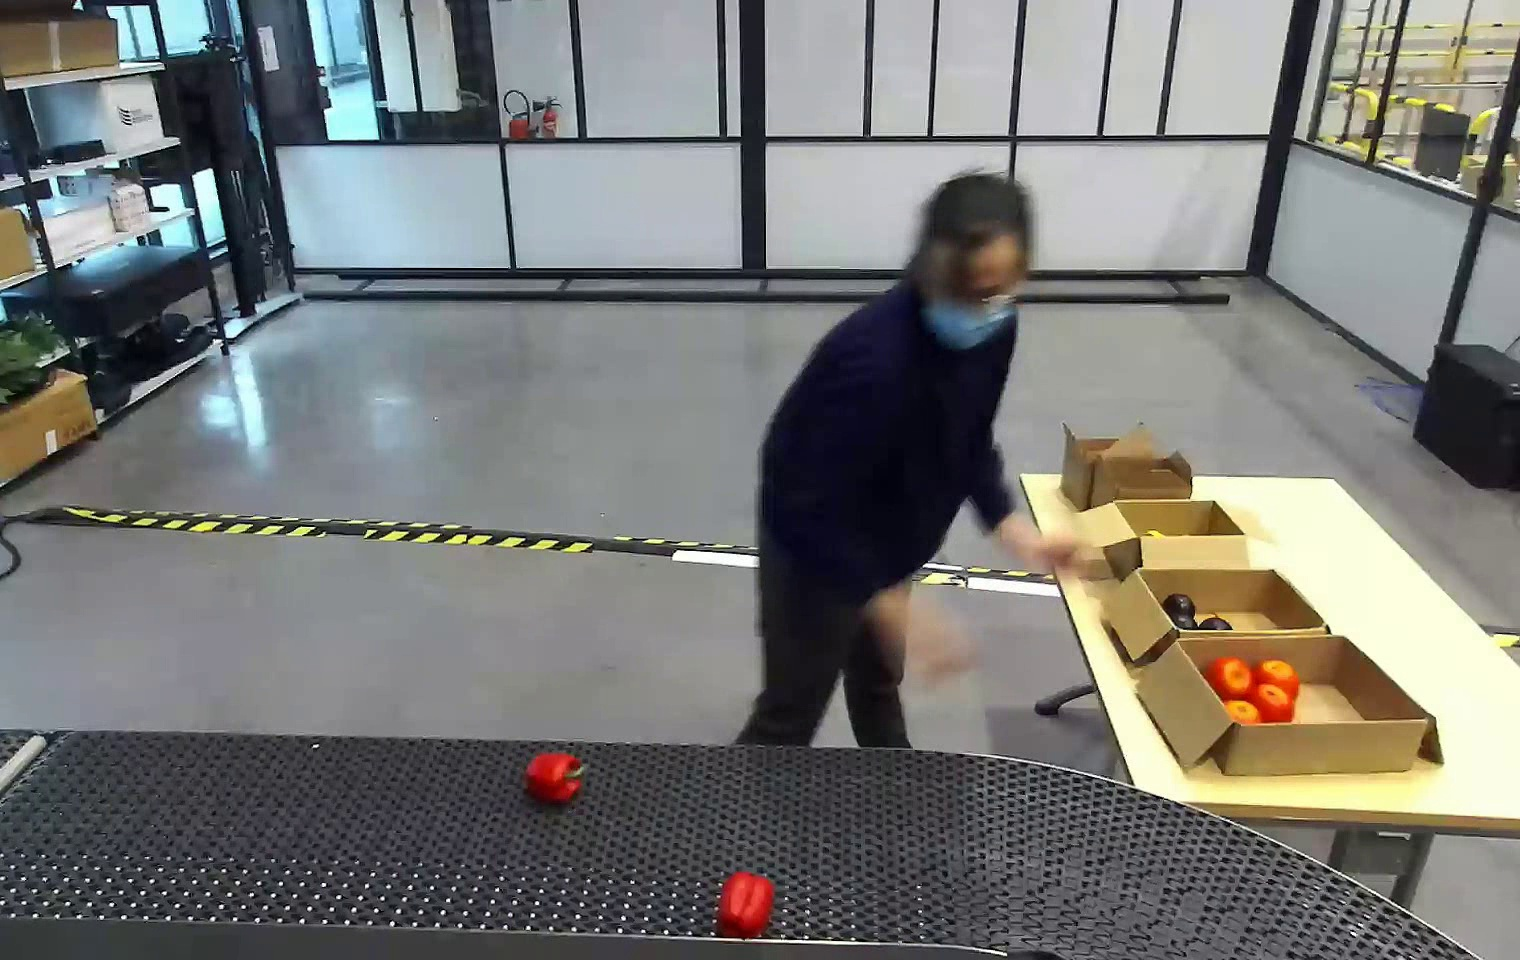Main droite: (1042, 657, 1125, 751)
